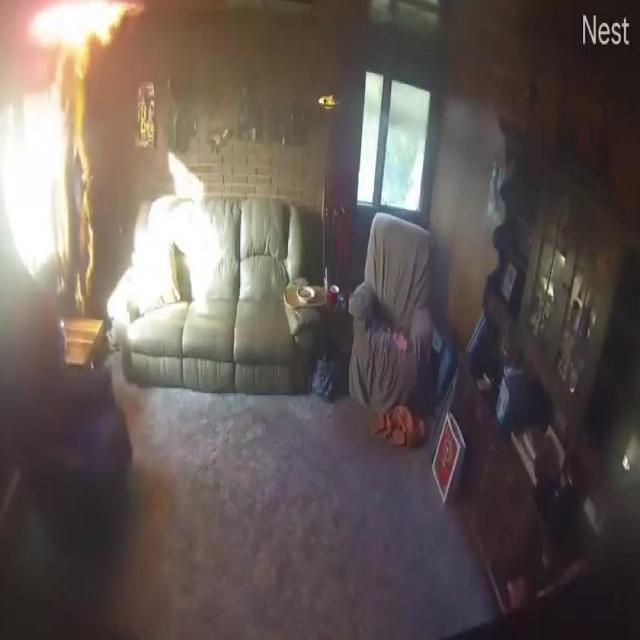smoke: (70, 61, 102, 316), (23, 0, 140, 56)
